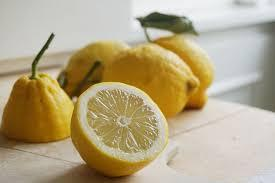lemon: (70, 81, 169, 177), (89, 43, 200, 117), (2, 73, 75, 141), (58, 40, 131, 98), (153, 34, 214, 89)
